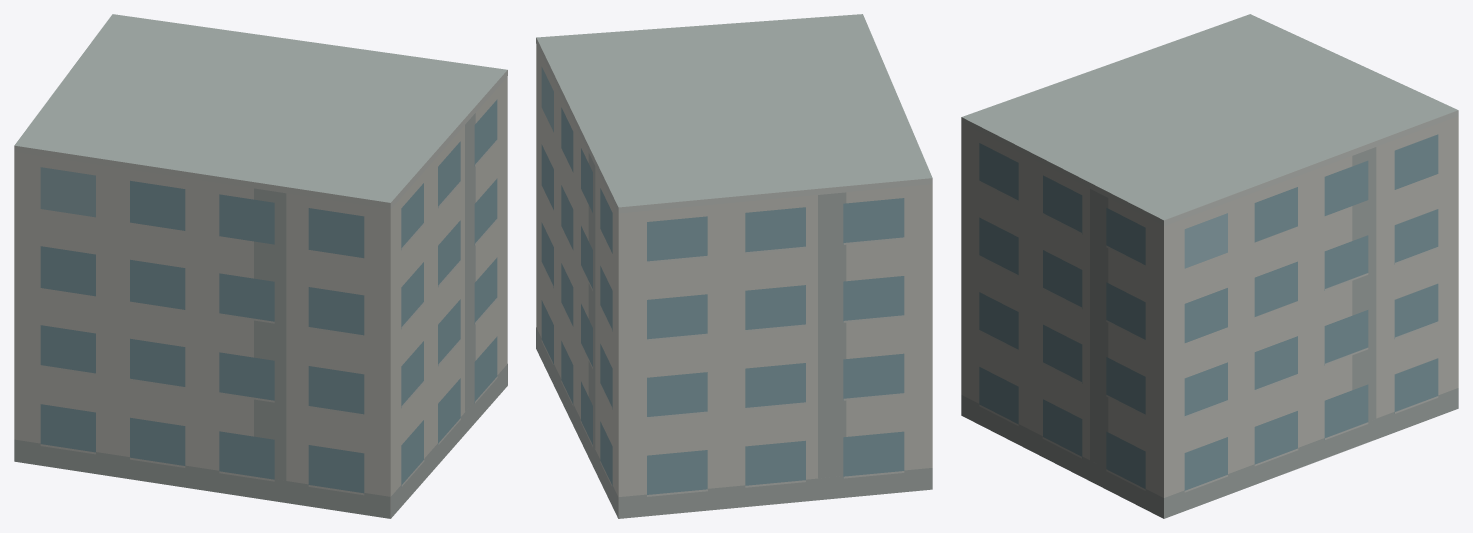
The model's file is residential-f28ac5a6-d527-4254-96d0-5305af2d894b.glb.
3 views of the same model, side by side, from view 1: azimuth 30°, elevation 25°; view 2: azimuth 150°, elevation 25°; view 3: azimuth 270°, elevation 25° (orthographic). The views are drawn at different scales.
Visible parts, largest first — view 1: residential-f28ac5a6-d527-4254-96d0-5305af2d894b.tmp; view 2: residential-f28ac5a6-d527-4254-96d0-5305af2d894b.tmp; view 3: residential-f28ac5a6-d527-4254-96d0-5305af2d894b.tmp.
Part boxes in pixels (x1,y1,x2,y2): residential-f28ac5a6-d527-4254-96d0-5305af2d894b.tmp: [14, 14, 507, 518]; residential-f28ac5a6-d527-4254-96d0-5305af2d894b.tmp: [536, 14, 932, 518]; residential-f28ac5a6-d527-4254-96d0-5305af2d894b.tmp: [961, 14, 1458, 518].
Bounding box in the file's own units: 18.1 × 12.2 × 18.42.
